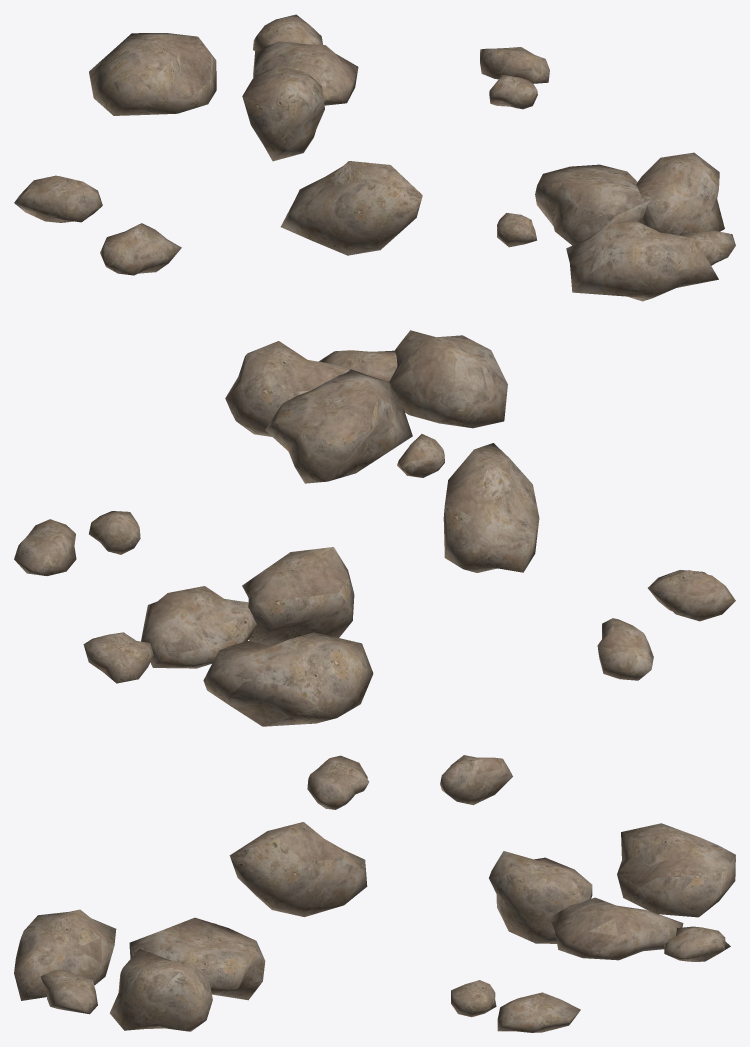
The model's file is rock_scree.glb.
The picture shows the model from 3 angles, top to bottom: view 1: azimuth 30°, elevation 25°; view 2: azimuth 150°, elevation 25°; view 3: azimuth 270°, elevation 25°; orthographic projection. The views are drawn at different scales.
Visible parts, largest first — view 1: rock_scree; view 2: rock_scree; view 3: rock_scree.
Boxes of the visible parts, x1,y1,x2,y2 form: rock_scree: (14,14,735,301); rock_scree: (14,330,735,726); rock_scree: (14,755,735,1032).
Size of the model in its own units: 1.82 by 0.298 by 2.11.
Materials: 1 (1 with a texture image).
